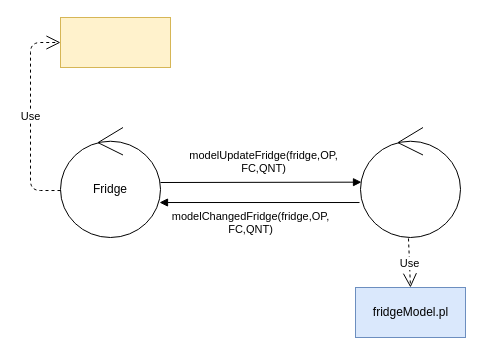
Some shapes in this 483 by 355 pixel diagram are drawn without their labels. The centre of each missing label's shape, as x and y in pixels:
"fridge.java" belongs at (x=115, y=42).
"ResourceModel Fridge" belongs at (x=410, y=182).
